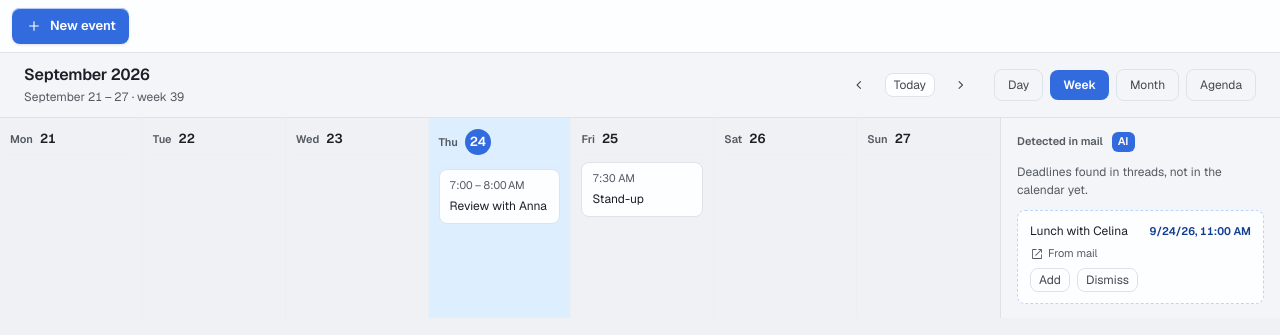
Test case: CalendarSpace › lets a proposal go by deleting it, and takes the card away as it goes
Expected: the text "Lunch with Celina" is shown, [1030, 222, 1140, 240]
Click the button "Dismiss" at (1108, 280), box [1077, 268, 1138, 292]
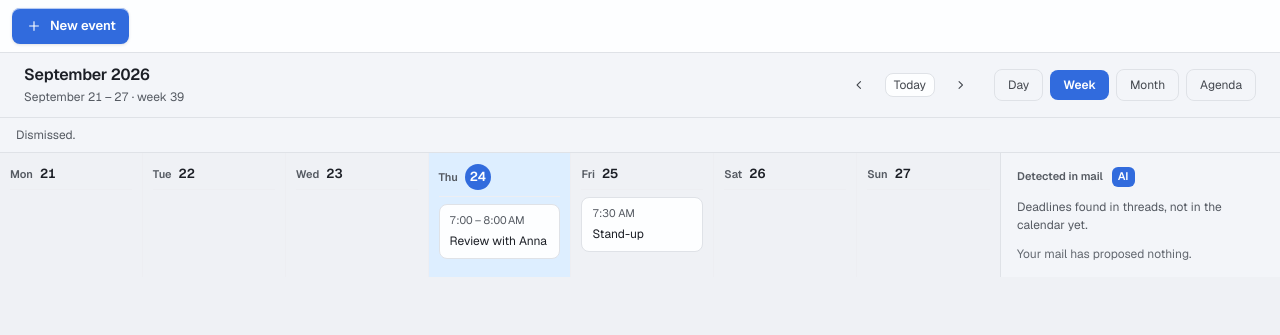
Expected: the text "Lunch with Celina" is gone
